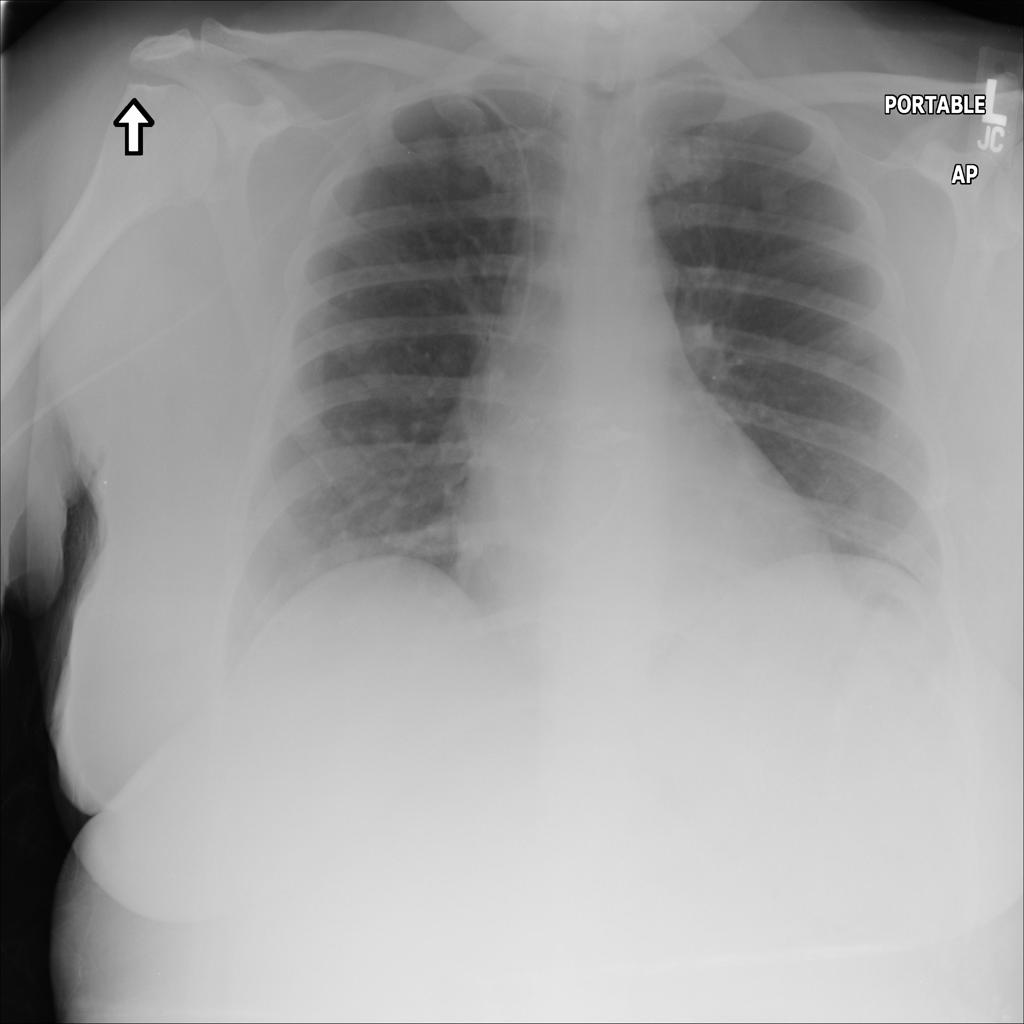nodule: (309, 511, 383, 582), (389, 114, 465, 181), (334, 321, 387, 371), (356, 407, 409, 457), (751, 177, 803, 226)
